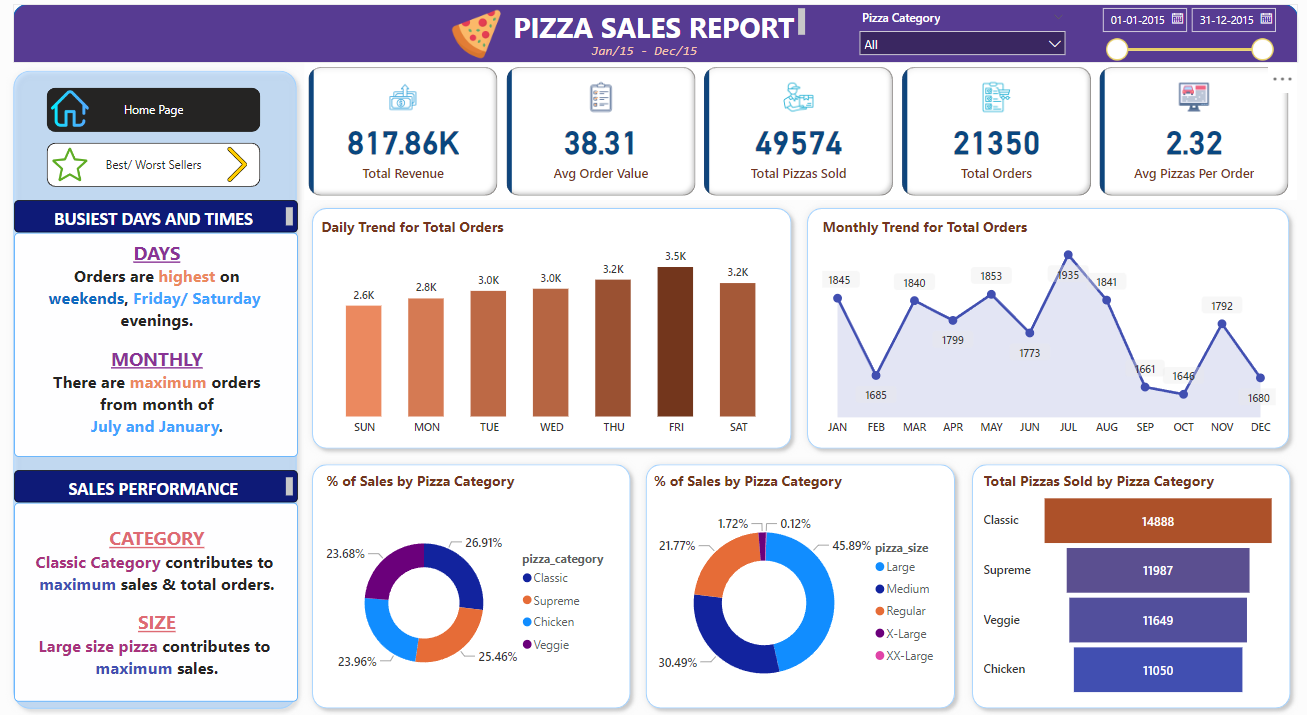

The page's visual inventory and layout, read from the dashboard file:
{"tool":"powerbi","page":{"name":"Home Page","canvas":[1500,820],"ordinal":0},"visuals":[{"type":"shape","box":[8.6,72.9,341.4,747.1],"z":0},{"type":"cardVisual","fields":{"Data":["pizza_sales.Total Revenue","pizza_sales.Avg Order Value","pizza_sales.Total Pizzas Sold","pizza_sales.Total Orders","pizza_sales.Avg Pizzas Per Order"]},"box":[350,72.9,1134.3,157.1],"z":1000},{"type":"shape","box":[17.1,5.7,1468.6,67.1],"z":2000},{"type":"textbox","box":[580,5.7,347.1,45.7],"z":3000},{"type":"textbox","box":[672.9,44.3,141.4,28.6],"z":4000},{"type":"image","box":[512.9,5.7,67.1,68.6],"z":5000},{"type":"shape","box":[350,230,565.7,292.9],"z":6000},{"type":"columnChart","title":"Daily Trend for Total Orders","fields":{"Category":["pizza_sales.Order Day"],"Y":["pizza_sales.Total Orders"]},"box":[364.3,248.6,537.1,258.6],"z":7000},{"type":"shape","box":[915.7,230,568.6,292.9],"z":8000},{"type":"areaChart","title":"Monthly Trend for Total Orders","fields":{"Category":["pizza_sales.Order Month"],"Y":["pizza_sales.Total Orders"]},"box":[937.1,248.6,528.6,258.6],"z":9000},{"type":"shape","box":[350,522.9,381.4,297.1],"z":10000},{"type":"shape","box":[1104.3,522.9,381.4,297.1],"z":11000},{"type":"shape","box":[731.4,522.9,371.4,297.1],"z":12000},{"type":"donutChart","title":"% of Sales by Pizza Category","fields":{"Y":["pizza_sales.Total Revenue"],"Category":["pizza_sales.pizza_size"]},"box":[744.3,538.6,342.9,281.4],"z":13000},{"type":"donutChart","title":"% of Sales by Pizza Category","fields":{"Category":["pizza_sales.pizza_category"],"Y":["pizza_sales.Total Revenue"]},"box":[370,538.6,342.9,281.4],"z":14000},{"type":"funnel","title":"Total Pizzas Sold by Pizza Category","fields":{"Y":["pizza_sales.Total Pizzas Sold"],"Category":["pizza_sales.pizza_category"]},"box":[1121.4,538.6,344.3,264.3],"z":15000},{"type":"textbox","box":[18.6,230,324.3,37.1],"z":16000},{"type":"textbox","box":[18.6,267.1,324.3,255.7],"z":17000},{"type":"textbox","box":[18.6,538.6,324.3,37.1],"z":18000},{"type":"textbox","box":[18.6,575.7,324.3,227.1],"z":19000},{"type":"slicer","fields":{"Values":["pizza_sales.pizza_category"]},"box":[974.3,7.1,255.7,67.1],"z":20000},{"type":"slicer","fields":{"Values":["pizza_sales.order_date"]},"box":[1250,0,215.7,80],"z":21000},{"type":"pageNavigator","box":[55.7,101.4,244.3,50],"z":21001},{"type":"pageNavigator","box":[55.7,164.3,244.3,50],"z":21002},{"type":"image","box":[247.1,164.3,52.9,50],"z":21003},{"type":"image","box":[55.7,98.6,52.9,52.9],"z":21004},{"type":"image","box":[55.7,164.3,52.9,50],"z":21005}]}

Visuals, with their boxes in screenshot pixels (x1, y1, x2, y2), scaled from the page's 1500x820 canvas onto the 1307x715 screenshot:
shape: [left=7, top=64, right=305, bottom=714]
cardVisual - pizza_sales.Total Revenue x pizza_sales.Avg Order Value: [left=305, top=64, right=1293, bottom=201]
shape: [left=15, top=5, right=1295, bottom=63]
textbox: [left=505, top=5, right=808, bottom=45]
textbox: [left=586, top=39, right=710, bottom=64]
image: [left=447, top=5, right=505, bottom=65]
shape: [left=305, top=201, right=798, bottom=456]
"Daily Trend for Total Orders" columnChart: [left=317, top=217, right=785, bottom=442]
shape: [left=798, top=201, right=1293, bottom=456]
"Monthly Trend for Total Orders" areaChart: [left=817, top=217, right=1277, bottom=442]
shape: [left=305, top=456, right=637, bottom=714]
shape: [left=962, top=456, right=1295, bottom=714]
shape: [left=637, top=456, right=961, bottom=714]
"% of Sales by Pizza Category" donutChart: [left=649, top=470, right=947, bottom=714]
"% of Sales by Pizza Category" donutChart: [left=322, top=470, right=621, bottom=714]
"Total Pizzas Sold by Pizza Category" funnel: [left=977, top=470, right=1277, bottom=700]
textbox: [left=16, top=201, right=299, bottom=233]
textbox: [left=16, top=233, right=299, bottom=456]
textbox: [left=16, top=470, right=299, bottom=502]
textbox: [left=16, top=502, right=299, bottom=700]
slicer - pizza_sales.pizza_category: [left=849, top=6, right=1072, bottom=65]
slicer - pizza_sales.order_date: [left=1089, top=0, right=1277, bottom=70]
pageNavigator: [left=49, top=88, right=261, bottom=132]
pageNavigator: [left=49, top=143, right=261, bottom=187]
image: [left=215, top=143, right=261, bottom=187]
image: [left=49, top=86, right=95, bottom=132]
image: [left=49, top=143, right=95, bottom=187]
